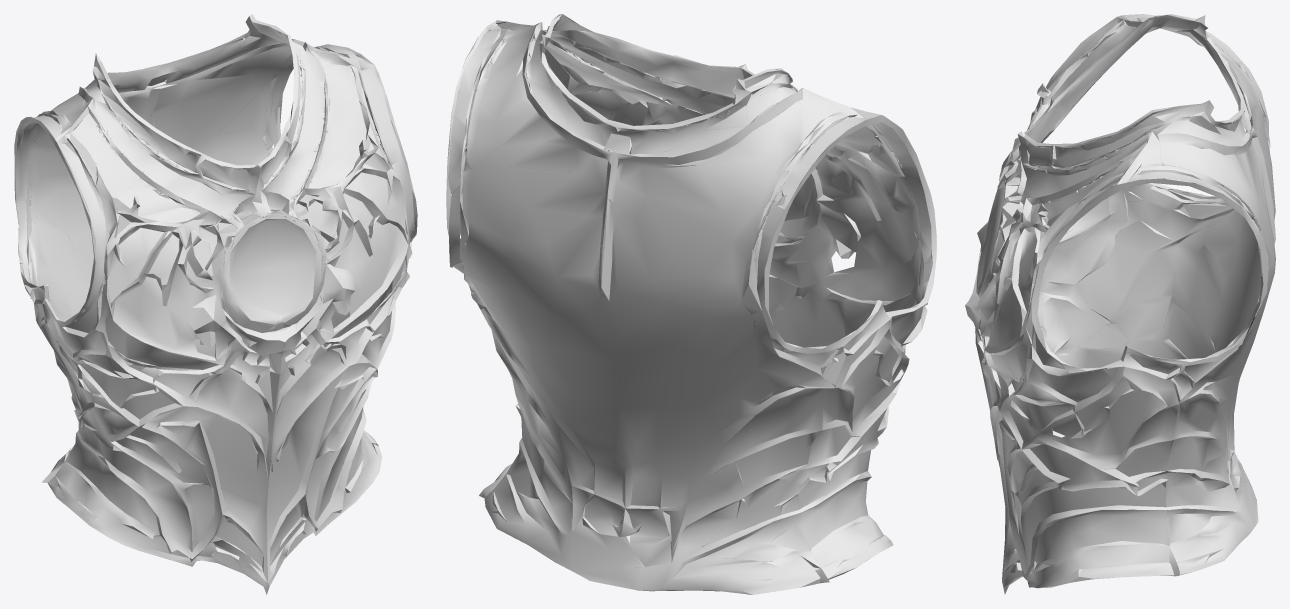
Rendered from vampire_chestplate_v3_lc_LOD0.glb.
The picture shows the model from 3 angles, left to right: view 1: azimuth 30°, elevation 25°; view 2: azimuth 150°, elevation 25°; view 3: azimuth 270°, elevation 25°; orthographic projection. The views are drawn at different scales.
Parts seen in each view (by area): view 1: vampire_chestplate_v3_lc_LOD0; view 2: vampire_chestplate_v3_lc_LOD0; view 3: vampire_chestplate_v3_lc_LOD0.
Part boxes in pixels (x1,y1,x2,y2): vampire_chestplate_v3_lc_LOD0: (14,14,417,594); vampire_chestplate_v3_lc_LOD0: (446,14,936,594); vampire_chestplate_v3_lc_LOD0: (965,14,1275,594).
Bounding box in the file's own units: 0.7251 × 0.981 × 0.5139.
Materials: 1 (1 with a texture image).
